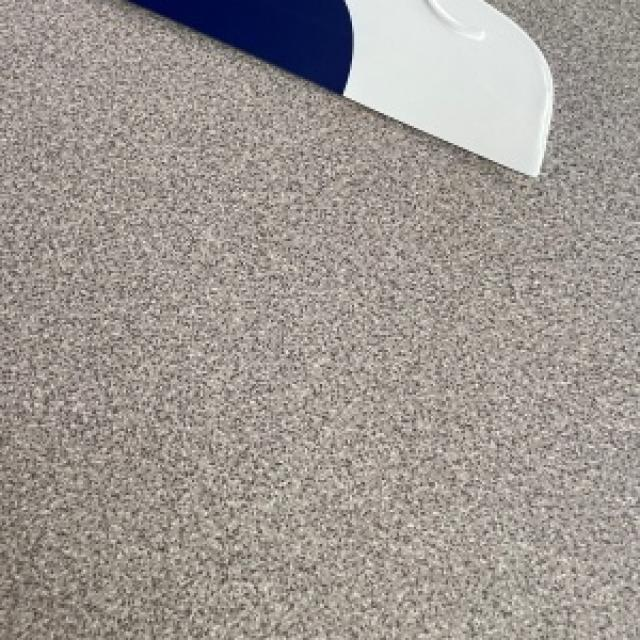healthy: (132, 0, 550, 173)
